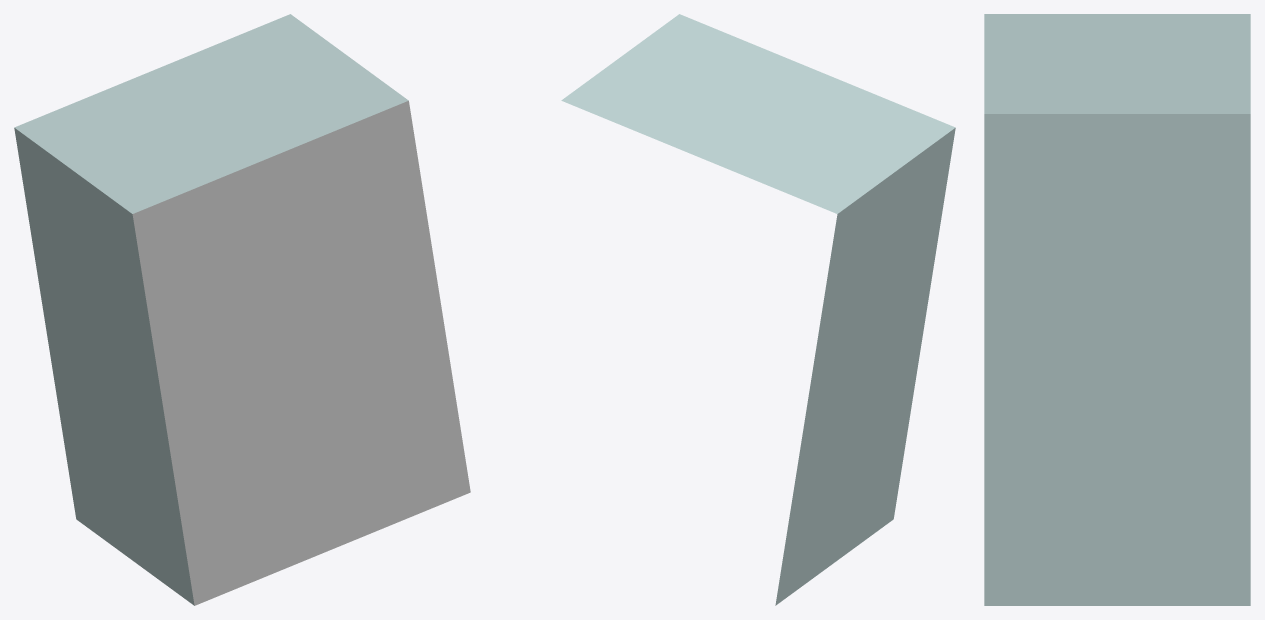
3 renders of one model, left to right at view 1: azimuth 30°, elevation 25°; view 2: azimuth 150°, elevation 25°; view 3: azimuth 270°, elevation 25°, orthographic. The views are drawn at different scales.
Parts seen in each view (by area): view 1: 0_1_2_1_3_1_0_0; view 2: 0_1_2_1_3_1_0_0; view 3: 0_1_2_1_3_1_0_0.
Part boxes in pixels (x1=…): 0_1_2_1_3_1_0_0: x1=14, y1=14, x2=470, y2=605; 0_1_2_1_3_1_0_0: x1=561, y1=14, x2=955, y2=605; 0_1_2_1_3_1_0_0: x1=984, y1=14, x2=1250, y2=605.
Size of the model in its own units: 4.95 by 6.34 by 3.
